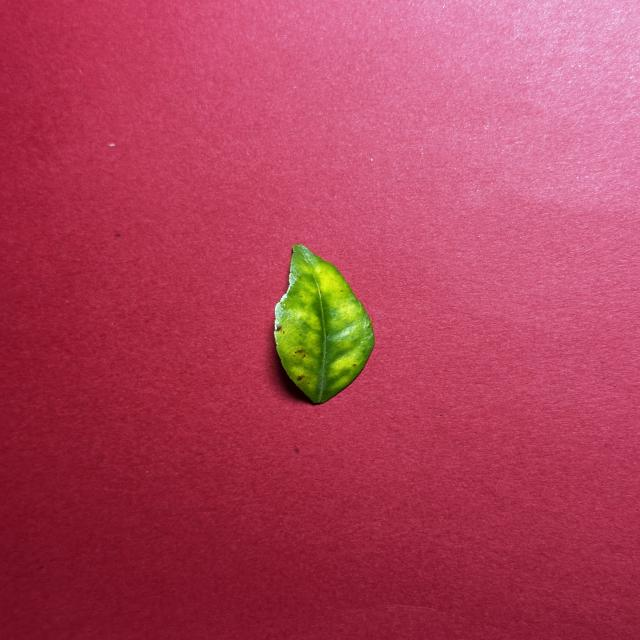greening: (274, 245, 374, 403)
